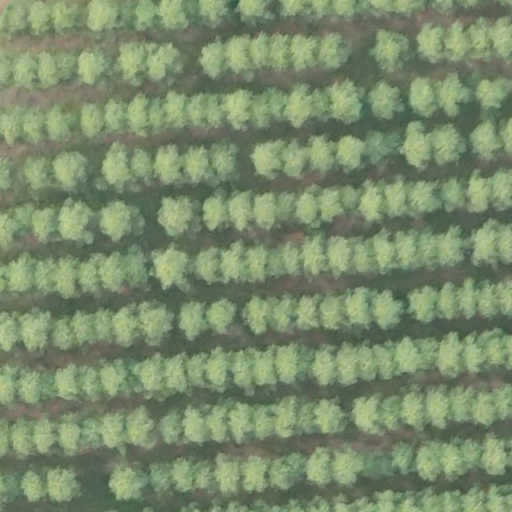eucalipto: (366, 28, 414, 75), (97, 199, 145, 242), (150, 242, 192, 290), (56, 197, 96, 246), (147, 41, 188, 87), (106, 460, 150, 502), (365, 80, 407, 123), (400, 120, 434, 172), (137, 302, 174, 349), (157, 195, 196, 239), (431, 121, 468, 167), (327, 80, 364, 125), (466, 119, 504, 162), (470, 220, 504, 268), (75, 48, 116, 87), (249, 139, 287, 181), (207, 139, 242, 184), (478, 432, 512, 478), (123, 405, 157, 450), (318, 31, 355, 72), (312, 394, 348, 436), (350, 395, 386, 437), (100, 141, 132, 188), (53, 148, 89, 189), (438, 74, 472, 117), (369, 289, 403, 332), (408, 75, 441, 119), (45, 466, 82, 505), (331, 446, 367, 486), (19, 308, 50, 354), (364, 127, 399, 167), (152, 143, 183, 188), (117, 42, 147, 88), (475, 74, 512, 111), (469, 15, 495, 67), (335, 133, 367, 175), (461, 175, 492, 217), (443, 18, 470, 66), (240, 294, 270, 337), (439, 222, 467, 268), (314, 188, 347, 227), (135, 353, 167, 393), (234, 1, 278, 30), (301, 234, 330, 278), (289, 33, 320, 74), (283, 139, 314, 180), (194, 244, 224, 286), (178, 300, 208, 342), (407, 179, 441, 216), (238, 457, 272, 494), (417, 22, 446, 65), (46, 104, 77, 144), (343, 286, 371, 330), (124, 244, 150, 291), (437, 333, 463, 380), (203, 346, 232, 388), (395, 226, 422, 271), (407, 285, 438, 324), (470, 390, 501, 429), (126, 91, 151, 139), (29, 205, 59, 245), (198, 39, 227, 80), (55, 252, 79, 301), (283, 90, 313, 129), (221, 239, 247, 284), (7, 250, 33, 295), (439, 444, 469, 483), (13, 46, 40, 89), (77, 252, 104, 295), (273, 343, 300, 386), (380, 179, 409, 219), (401, 392, 430, 432), (51, 1, 83, 37), (374, 226, 397, 276), (226, 88, 252, 132), (354, 184, 383, 223), (229, 402, 254, 447), (205, 299, 237, 334), (328, 234, 354, 277), (112, 306, 138, 349), (435, 178, 466, 214), (1, 1, 28, 42), (227, 190, 253, 232), (183, 405, 211, 444), (307, 444, 333, 486), (309, 134, 336, 174), (100, 250, 125, 293), (164, 351, 189, 394), (184, 143, 210, 184), (252, 191, 278, 232), (271, 293, 297, 334), (158, 1, 191, 33), (227, 34, 252, 76), (252, 346, 277, 388), (51, 364, 81, 399), (291, 192, 320, 228), (79, 100, 105, 140), (319, 291, 345, 331), (490, 167, 512, 214), (296, 291, 321, 332), (87, 1, 119, 33), (21, 157, 51, 191), (26, 1, 52, 40), (395, 337, 421, 376), (334, 341, 357, 385), (22, 106, 46, 148), (372, 341, 396, 383), (214, 453, 238, 495), (198, 1, 231, 31), (244, 241, 267, 284), (461, 333, 484, 376), (202, 195, 228, 233), (251, 31, 275, 72), (249, 93, 273, 134), (352, 235, 376, 276), (204, 405, 229, 444), (50, 315, 77, 351), (33, 255, 56, 297), (437, 280, 460, 322), (71, 311, 97, 348), (17, 368, 43, 405), (231, 347, 255, 387), (270, 33, 292, 76), (415, 444, 439, 483), (10, 418, 32, 460), (253, 403, 276, 443), (130, 146, 154, 184), (1, 106, 22, 149), (100, 414, 125, 450), (420, 225, 439, 272), (19, 470, 46, 503), (102, 97, 126, 134), (99, 360, 123, 397), (32, 418, 56, 455), (458, 277, 478, 320), (478, 278, 498, 321), (311, 349, 334, 386), (57, 422, 81, 457), (158, 410, 182, 445), (164, 91, 186, 129), (278, 400, 300, 438), (170, 457, 193, 493), (282, 239, 303, 278), (133, 1, 157, 35), (39, 47, 58, 89), (355, 343, 375, 382), (94, 306, 113, 346), (191, 458, 214, 491), (147, 97, 167, 134), (187, 91, 207, 128), (207, 93, 226, 131), (56, 48, 76, 82), (485, 336, 505, 368), (500, 222, 512, 268)
